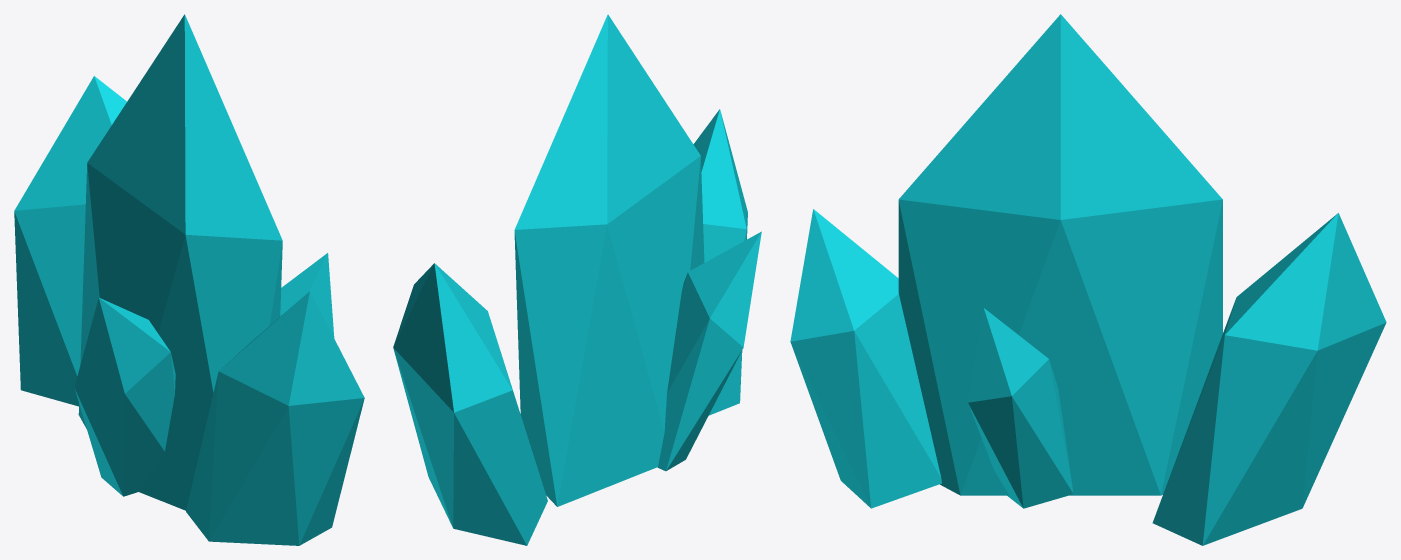
The model's file is IceWall.fbx.
The picture shows the model from 3 angles, left to right: view 1: azimuth 30°, elevation 25°; view 2: azimuth 150°, elevation 25°; view 3: azimuth 270°, elevation 25°; orthographic projection. The views are drawn at different scales.
Parts seen in each view (by area): view 1: Icosphere; view 2: Icosphere; view 3: Icosphere.
Part boxes in pixels (left/top/right/bottom): Icosphere: left=14, top=14, right=364, bottom=545; Icosphere: left=393, top=14, right=761, bottom=545; Icosphere: left=790, top=14, right=1386, bottom=545.
Bounding box in the file's own units: 3.73 × 6.64 × 7.57.
